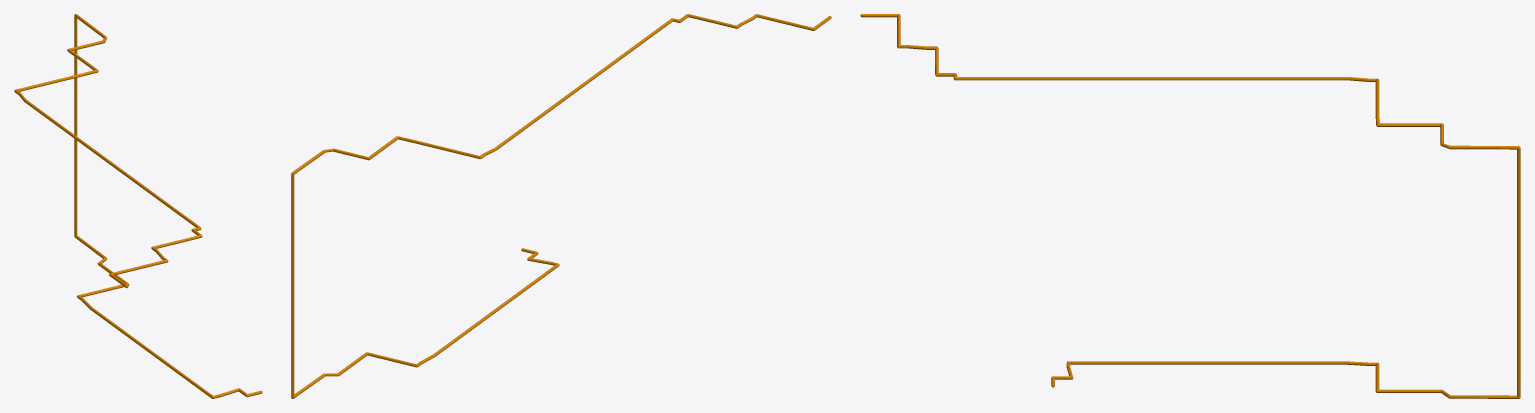
3 renders of one model, left to right at view 1: azimuth 30°, elevation 25°; view 2: azimuth 150°, elevation 25°; view 3: azimuth 270°, elevation 25°, orthographic. The views are drawn at different scales.
Bounding box in the file's own units: 1723 × 1520 × 3598.
